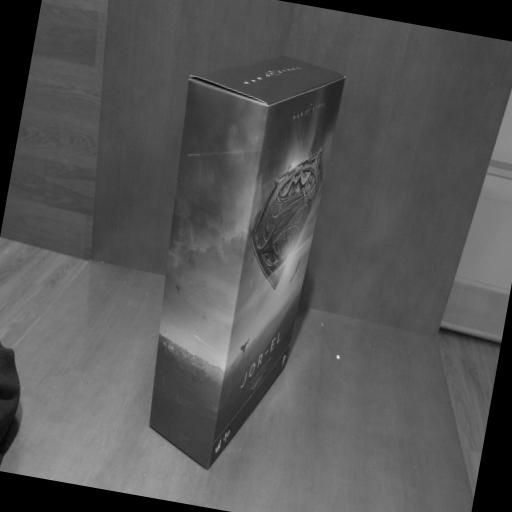superman: (124, 41, 347, 481)
